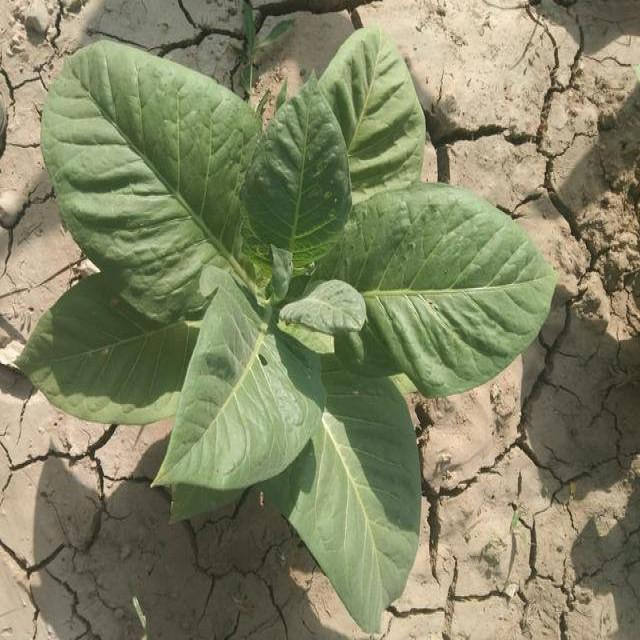crop: (37, 42, 550, 603)
